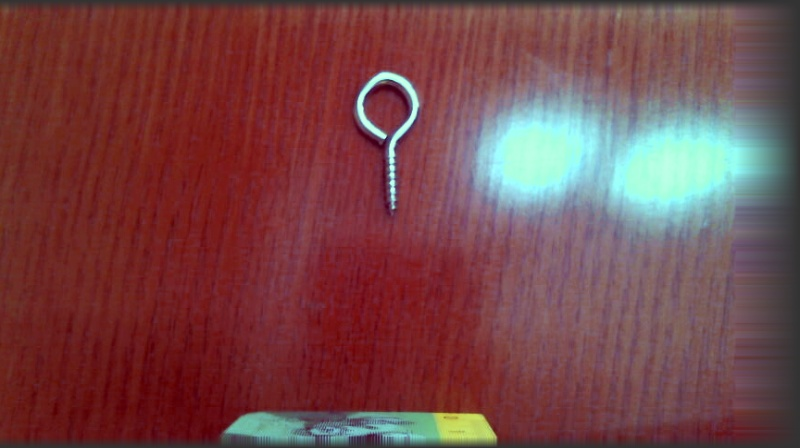O001: (346, 65, 425, 220)
